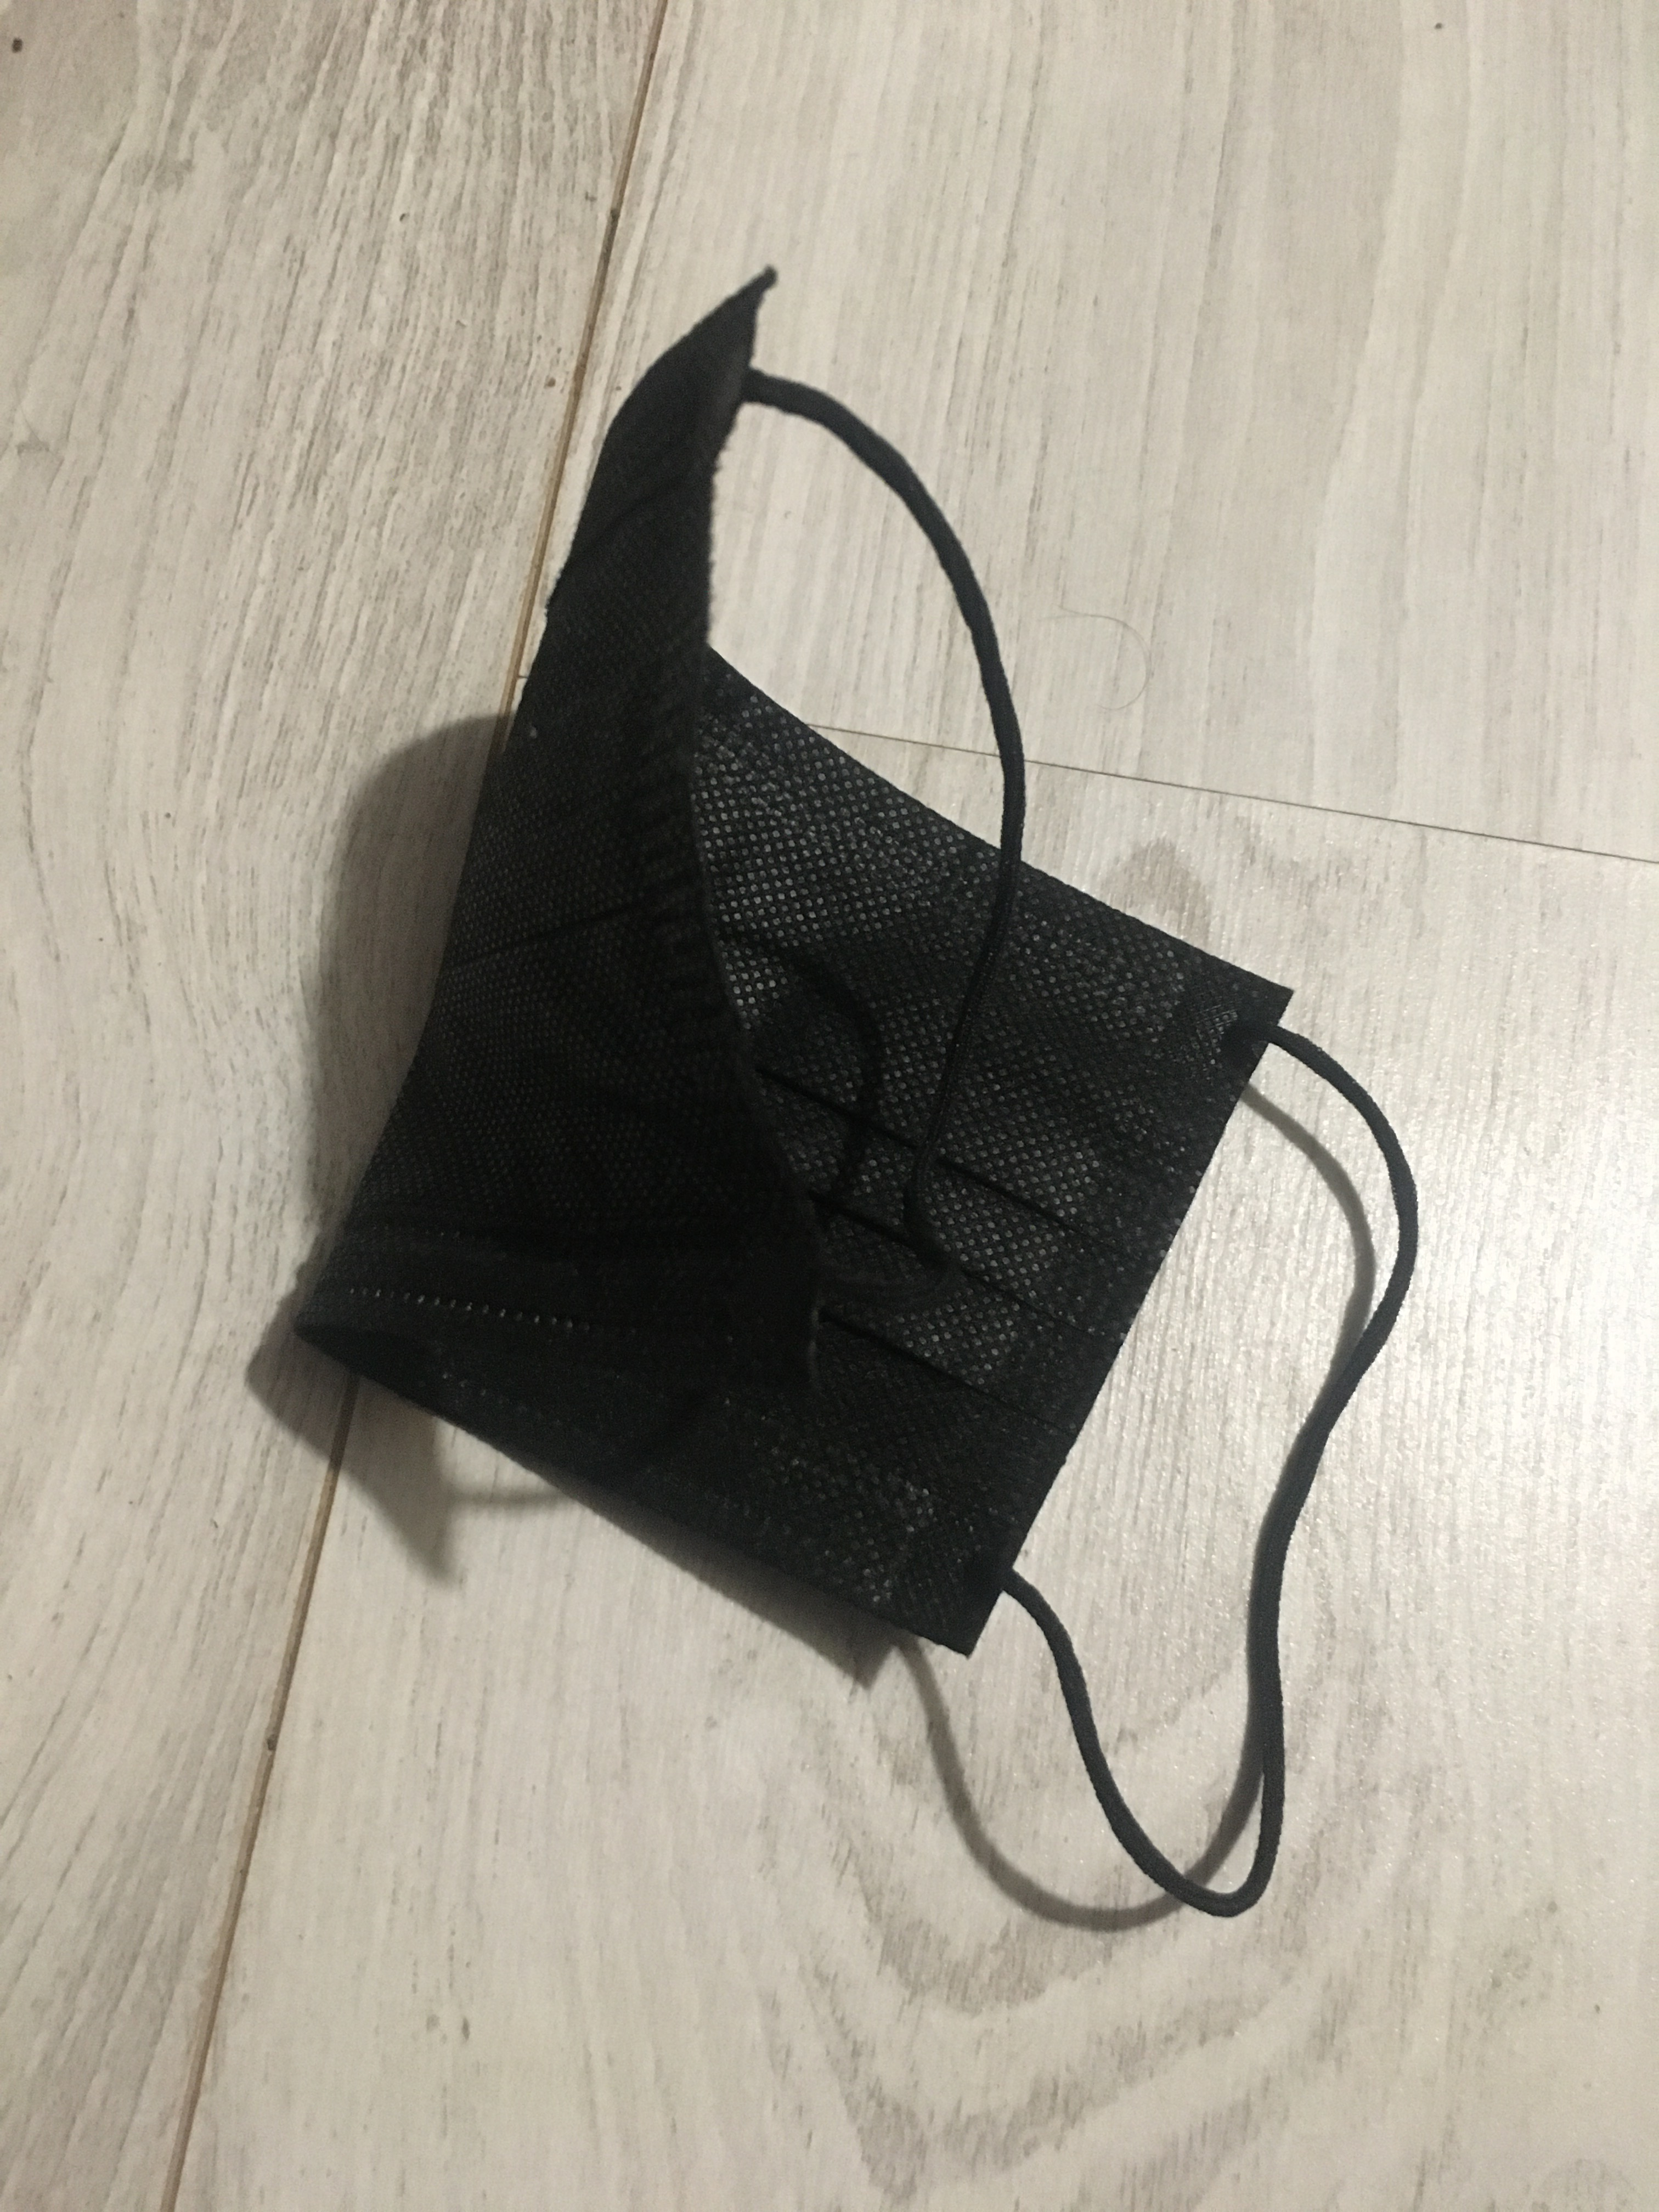trash: (298, 256, 1417, 1918)
